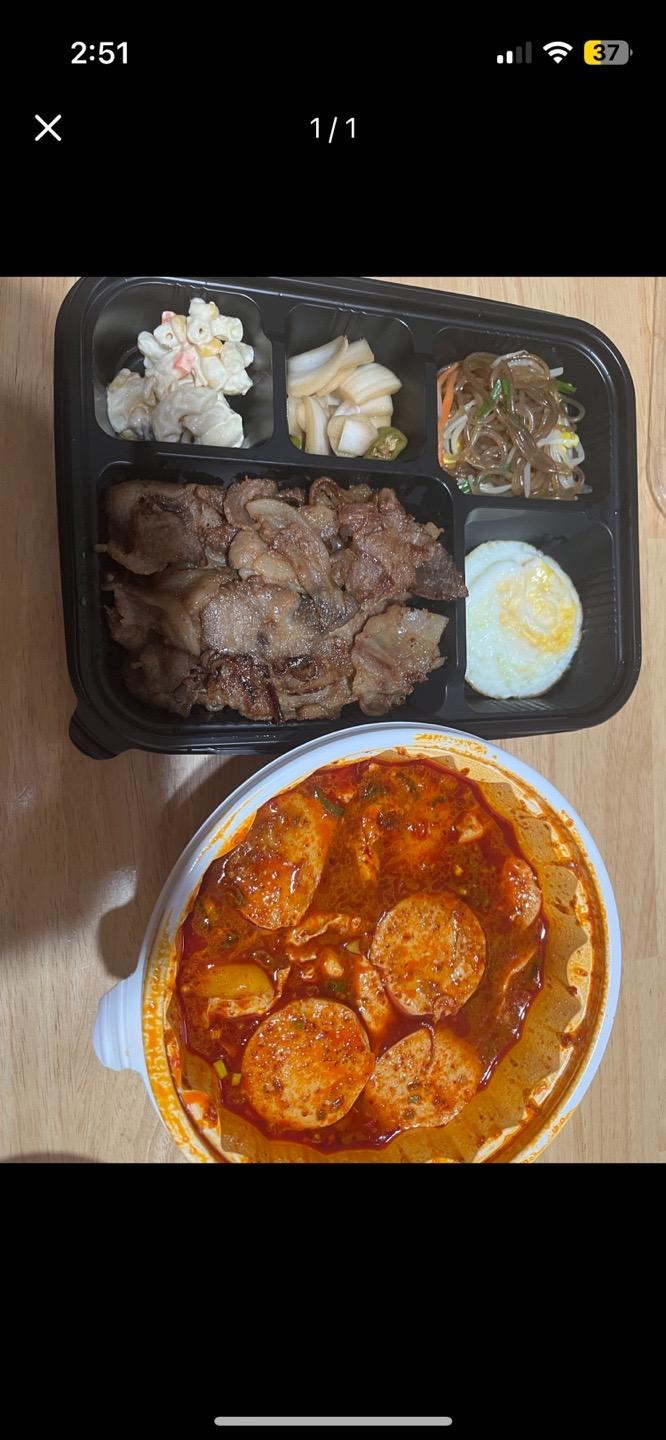Lunch Box: (54, 277, 640, 758), (93, 722, 621, 1162)
